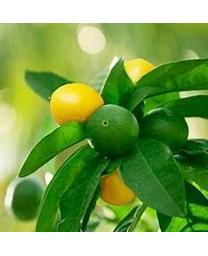lemon: (86, 104, 140, 160), (50, 82, 104, 126), (142, 107, 189, 156), (98, 165, 138, 205)
